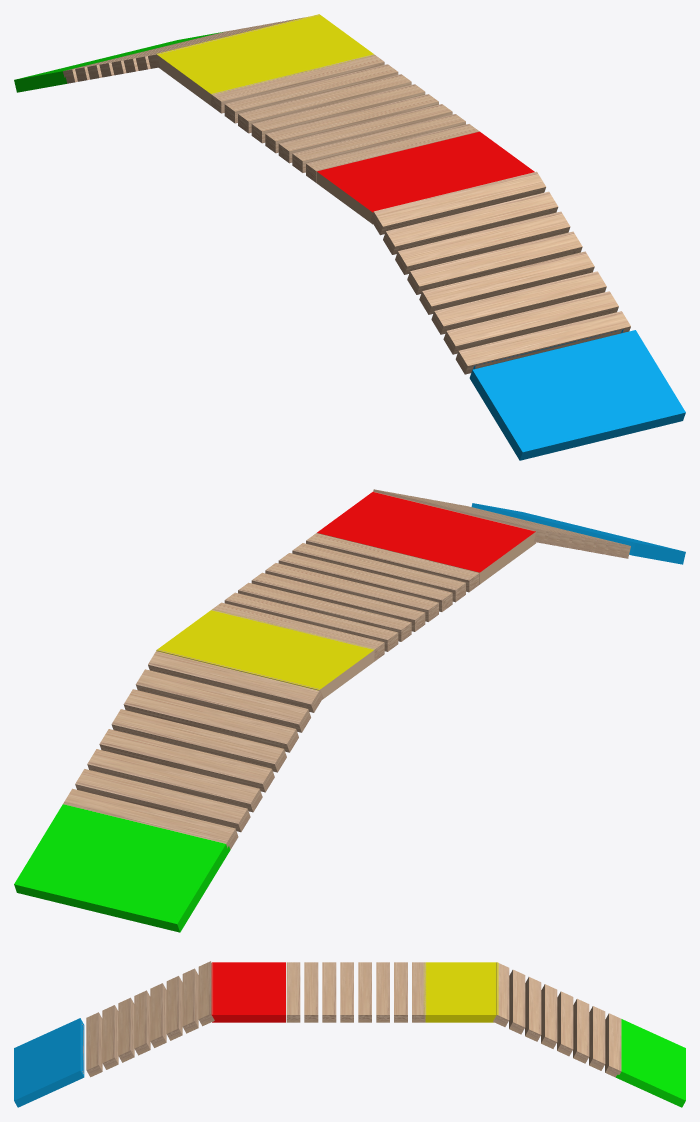
File: PLF0110179.fbx
3 views of the same model, one above another, from view 1: azimuth 30°, elevation 25°; view 2: azimuth 150°, elevation 25°; view 3: azimuth 270°, elevation 25° (orthographic). The views are drawn at different scales.
Visible parts, largest first — view 1: smPLF0110179; view 2: smPLF0110179; view 3: smPLF0110179.
Part boxes in pixels (x1,y1,x2,y2): smPLF0110179: (14, 14, 685, 460); smPLF0110179: (14, 489, 685, 932); smPLF0110179: (14, 961, 685, 1107).
Bounding box in the file's own units: 97.7 × 81.47 × 527.
1 material, 1 textured.
